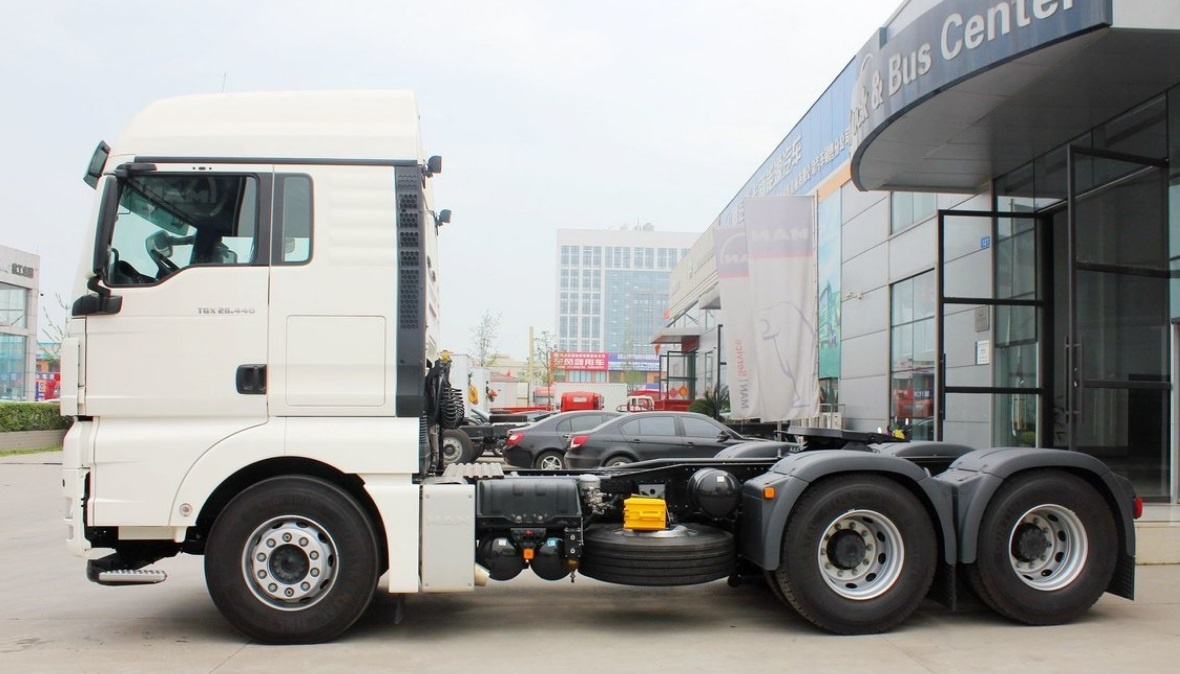truck: (37, 99, 1132, 632)
